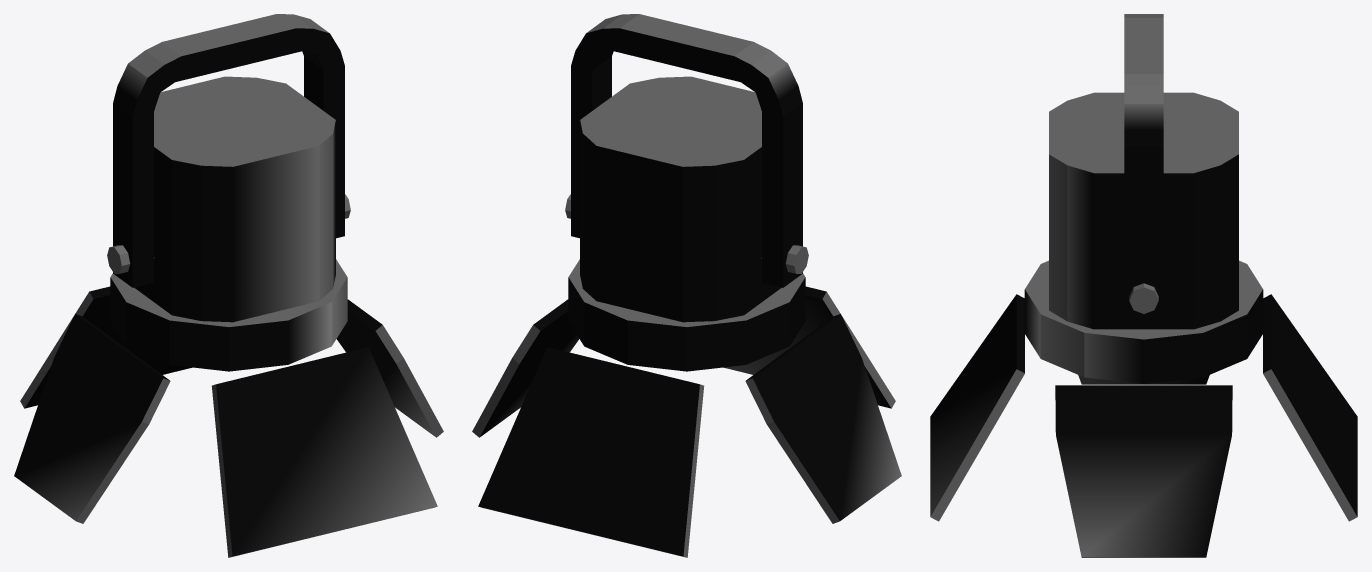
File: EFF_light.dae
3 renders of one model, left to right at view 1: azimuth 30°, elevation 25°; view 2: azimuth 150°, elevation 25°; view 3: azimuth 270°, elevation 25°, orthographic.
Parts seen in each view (by area): view 1: down_light_hane, down_light_c, down_light_b, down_light_c_hne_02a, down_light_a; view 2: down_light_hane, down_light_c, down_light_b, down_light_c_hne_02a, down_light_a; view 3: down_light_hane, down_light_c, down_light_c_hne_02a, down_light_b, down_light_a.
Part boxes in pixels (x1,y1,x2,y2): down_light_hane: [14, 286, 443, 557]; down_light_c: [134, 76, 335, 322]; down_light_b: [113, 14, 344, 287]; down_light_c_hne_02a: [110, 259, 347, 371]; down_light_a: [107, 194, 350, 273]; down_light_hane: [472, 286, 901, 557]; down_light_c: [580, 76, 781, 322]; down_light_b: [571, 14, 802, 287]; down_light_c_hne_02a: [568, 259, 805, 371]; down_light_a: [565, 194, 808, 273]; down_light_hane: [930, 294, 1357, 557]; down_light_c: [1049, 92, 1238, 329]; down_light_c_hne_02a: [1024, 260, 1263, 383]; down_light_b: [1124, 14, 1163, 318]; down_light_a: [1129, 283, 1158, 313].
Size of the model in its own units: 4.34 by 4.77 by 4.34.
